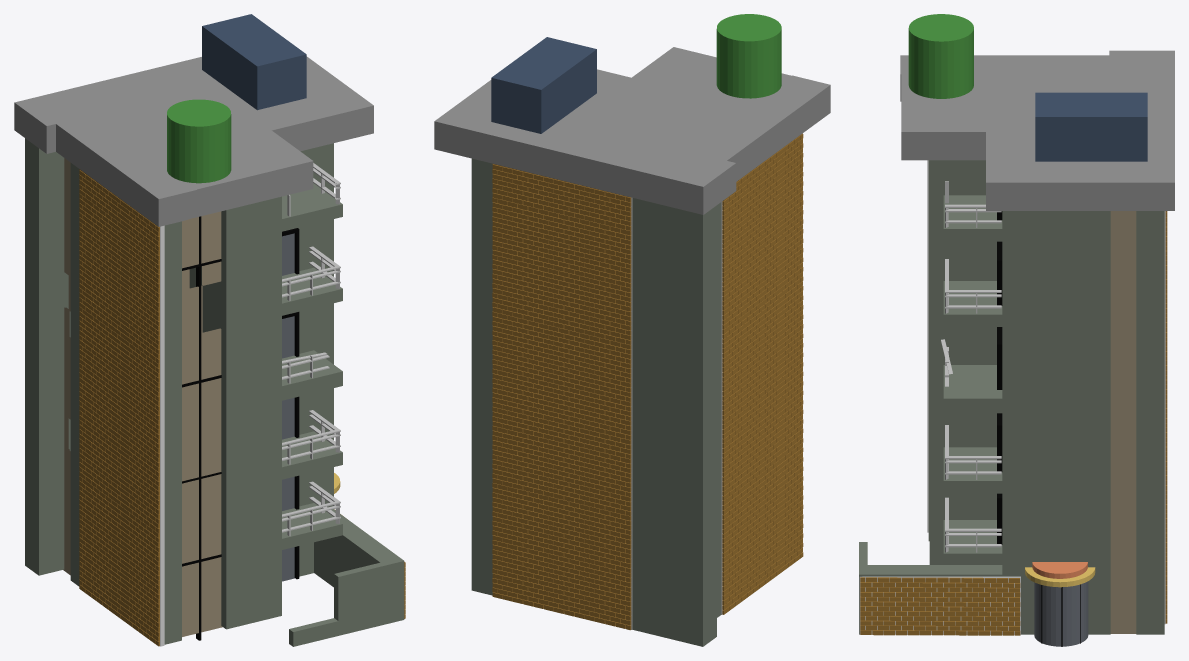
Rendered from Building4.fbx.
3 views of the same model, side by side, from view 1: azimuth 30°, elevation 25°; view 2: azimuth 150°, elevation 25°; view 3: azimuth 270°, elevation 25° (orthographic).
Parts seen in each view (by area): view 1: Cylinder.004; view 2: Cylinder.004; view 3: Cylinder.004.
Part boxes in pixels (left/top/right/bottom): Cylinder.004: left=14, top=14, right=405, bottom=646; Cylinder.004: left=434, top=14, right=830, bottom=646; Cylinder.004: left=859, top=14, right=1174, bottom=646.
Bounding box in the file's own units: 4080 × 7700 × 4124.
